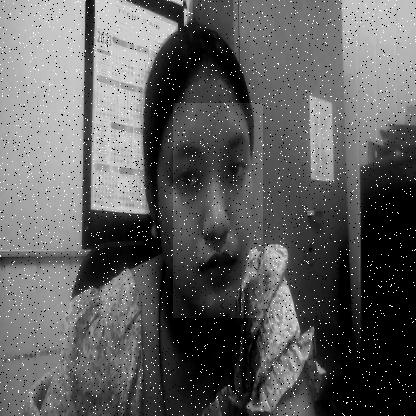Normal: (173, 103, 263, 318)
